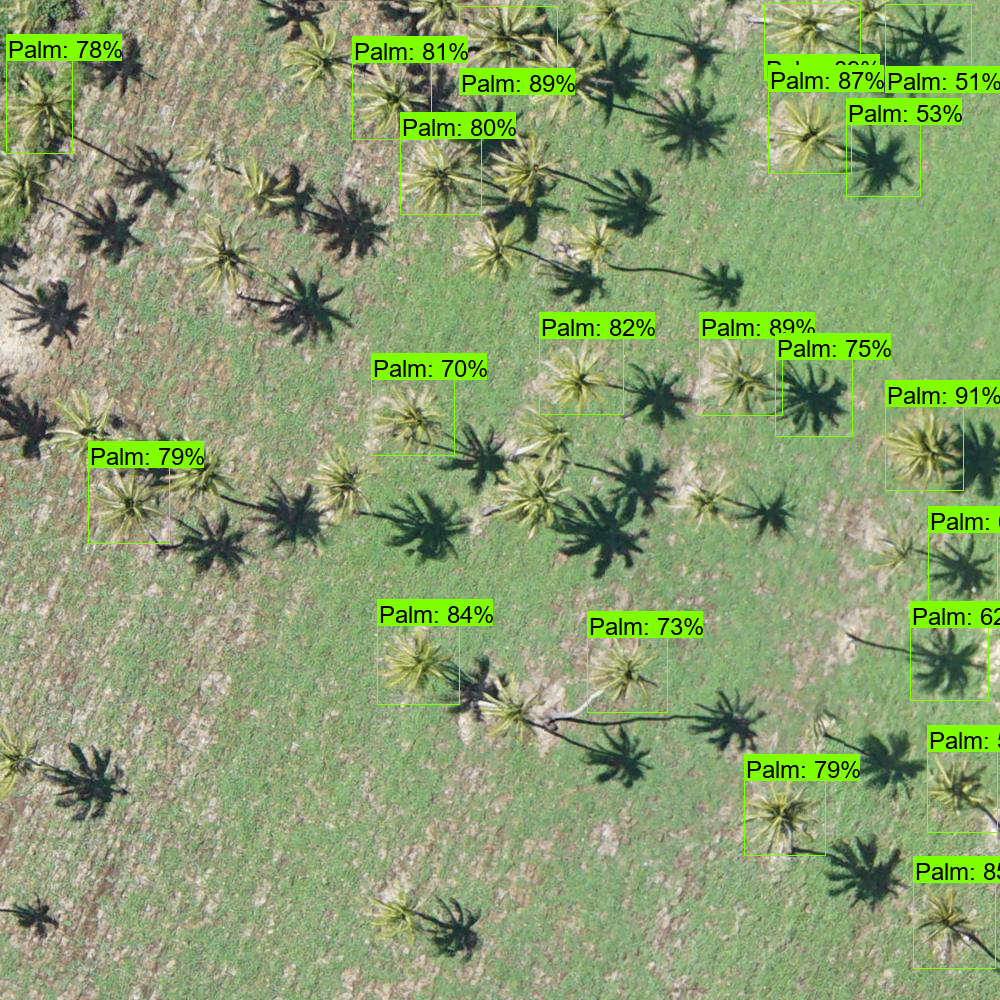Palm: (461, 1, 549, 83), (182, 217, 265, 298), (525, 38, 607, 117), (355, 59, 432, 140), (281, 22, 362, 97), (50, 394, 131, 467), (769, 96, 847, 171), (742, 780, 819, 855), (371, 381, 447, 456), (155, 434, 235, 505), (493, 462, 571, 533), (400, 136, 468, 216), (888, 407, 959, 482), (545, 335, 614, 412), (89, 476, 169, 540), (383, 626, 455, 697), (314, 449, 382, 524), (764, 1, 841, 64), (480, 675, 548, 744), (909, 890, 979, 957), (8, 75, 75, 142), (929, 748, 995, 816), (588, 635, 657, 700), (705, 340, 769, 410), (493, 133, 559, 199), (231, 157, 300, 215), (368, 888, 432, 950), (672, 468, 736, 530), (463, 218, 521, 285), (1, 715, 46, 794), (519, 408, 578, 466), (2, 145, 54, 210), (576, 1, 636, 50), (874, 521, 922, 573), (565, 221, 614, 271), (840, 1, 896, 43)
